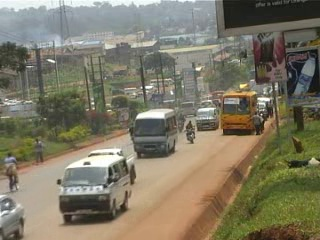Car: (0, 192, 29, 238), (198, 99, 215, 112)
Motorcycle: (182, 119, 198, 144), (175, 109, 187, 134), (126, 120, 137, 143)
